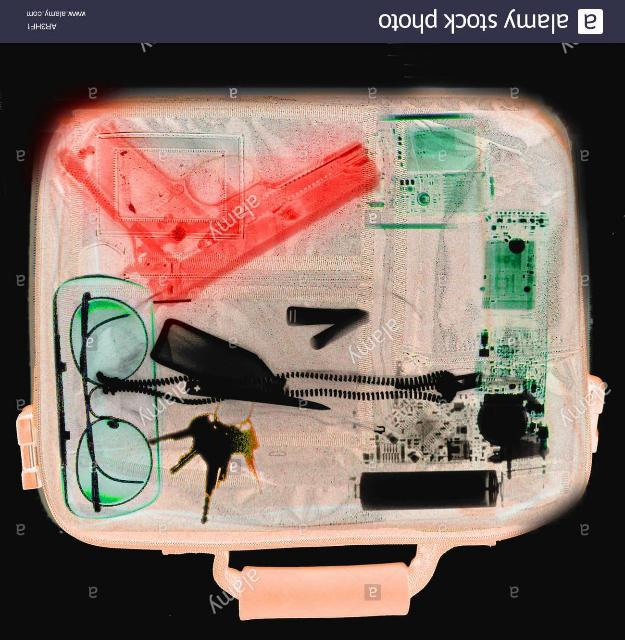Gun: (59, 121, 378, 305)
